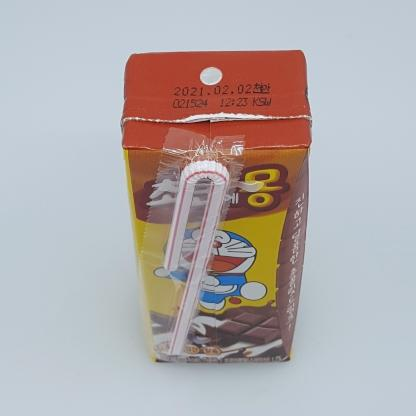---------180ML: (120, 50, 313, 364)
